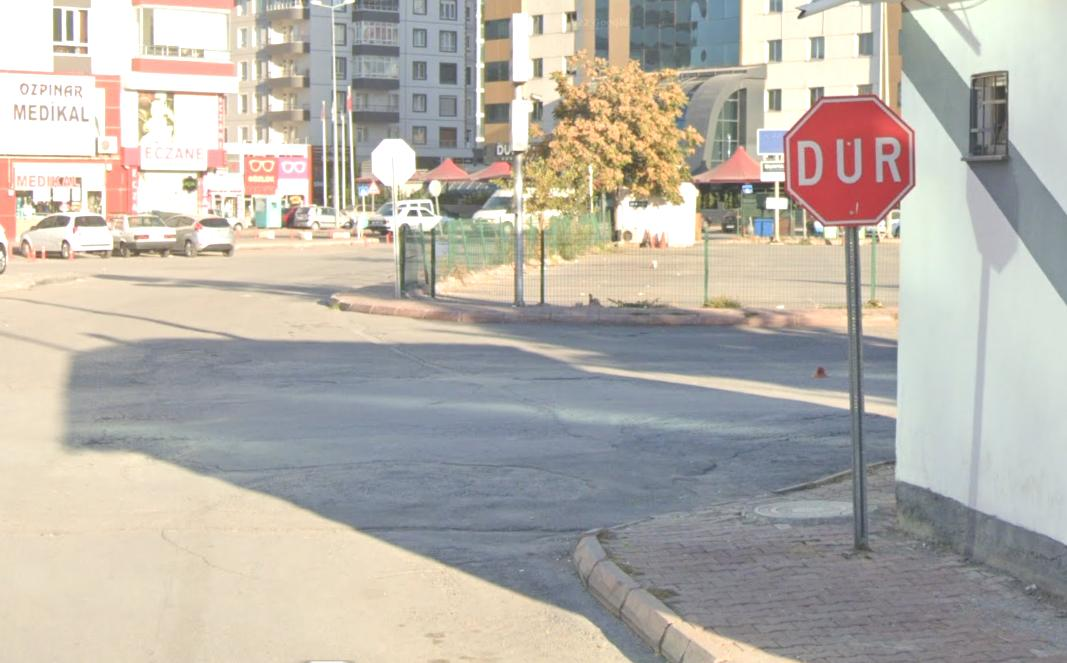stop: (779, 94, 914, 229)
